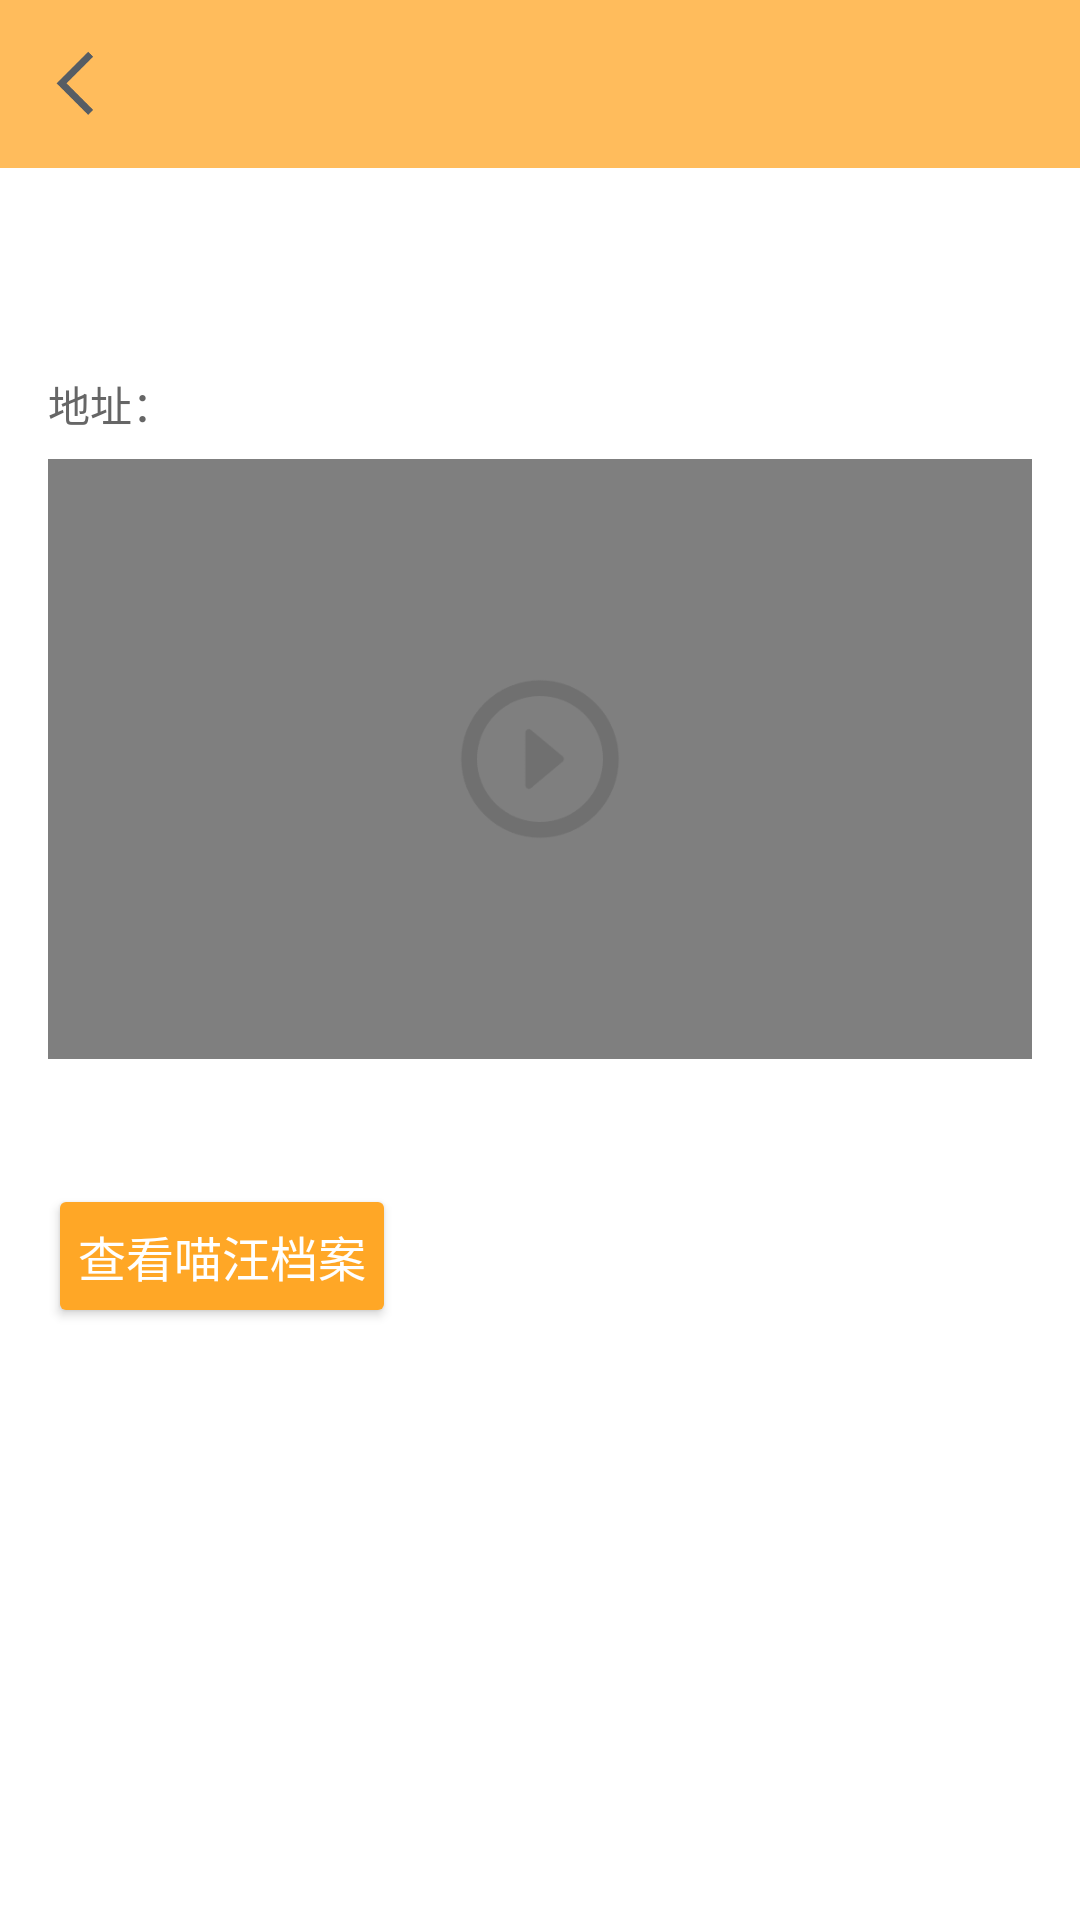

Icons on this 1080px x 1920px Android screen, each with the point to tap as [x,y]:
back: [74,83]
